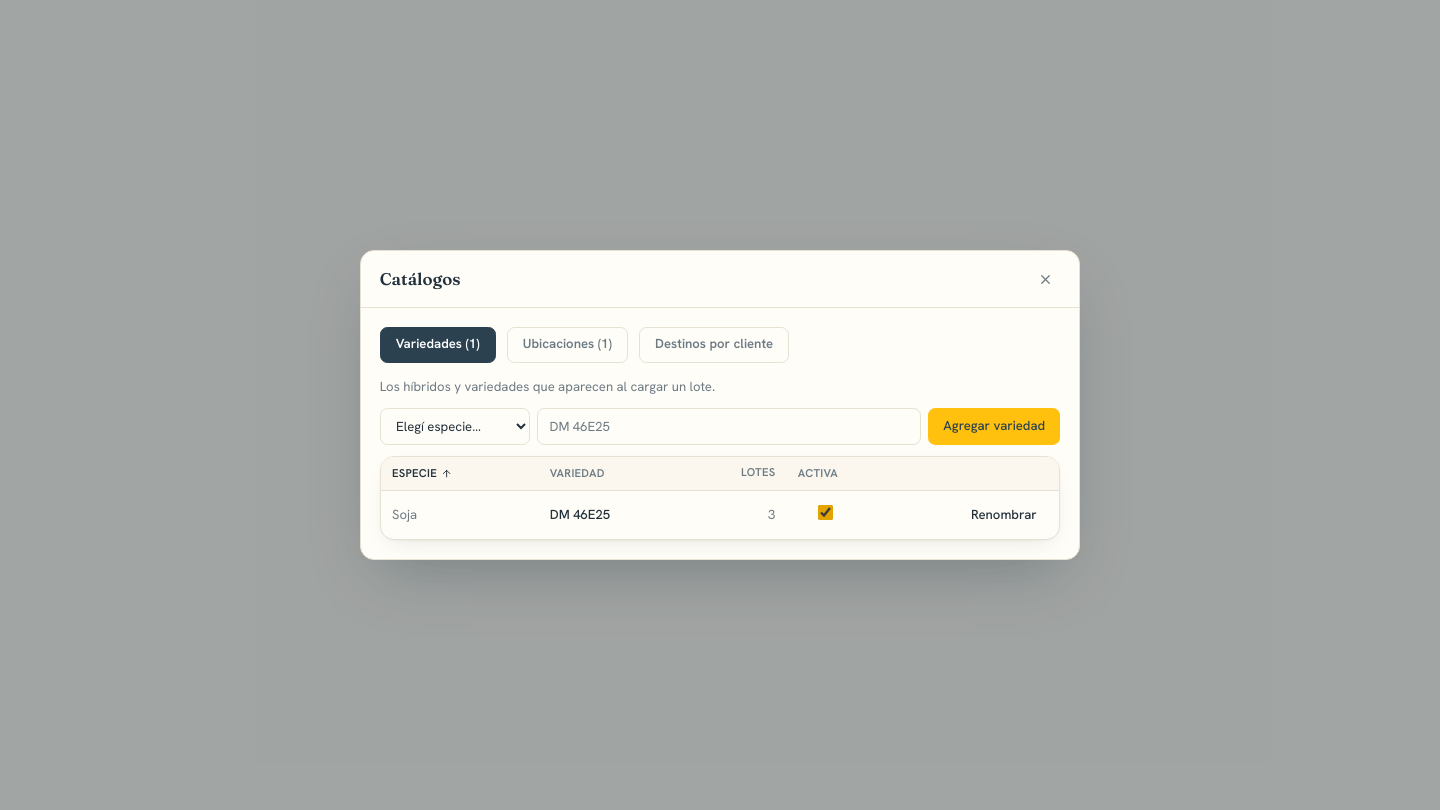
Test: CatalogosDialog › sin cliente elegido no se pueden ver ni agregar destinos
The image size is (1440, 810).
Click the tab "Destinos por cliente".
click(714, 345)  # box [639, 327, 789, 363]
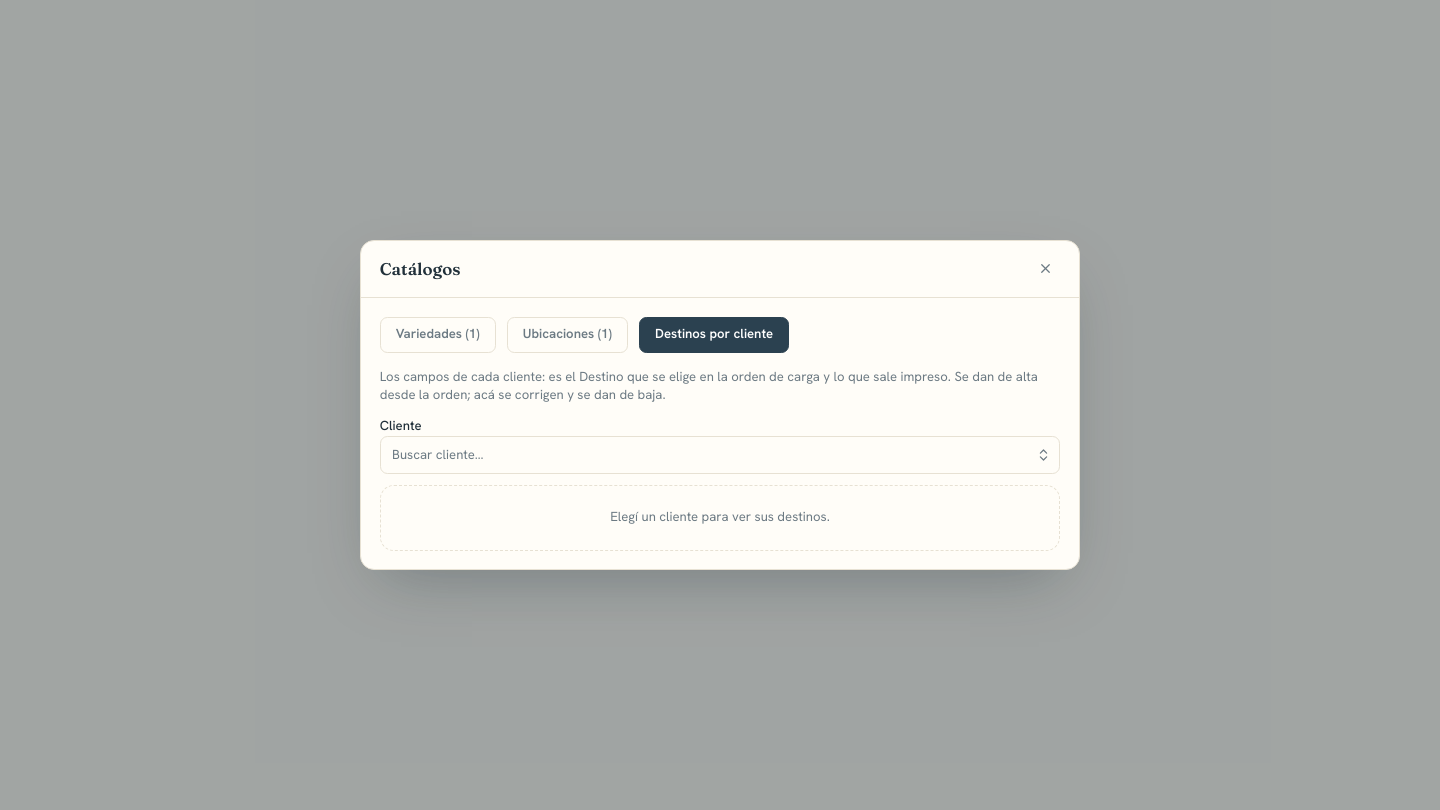
Now the text "Elegí un cliente para ver sus destinos." is shown, box [380, 485, 1060, 551]
